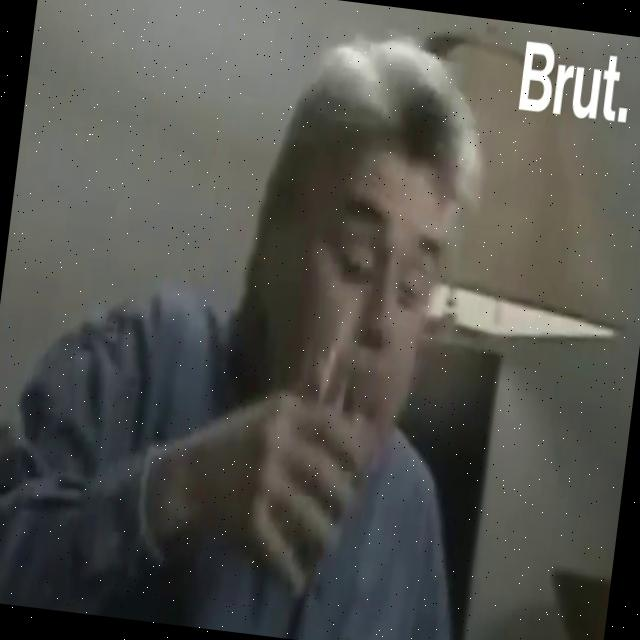spit: (333, 310, 504, 531)
